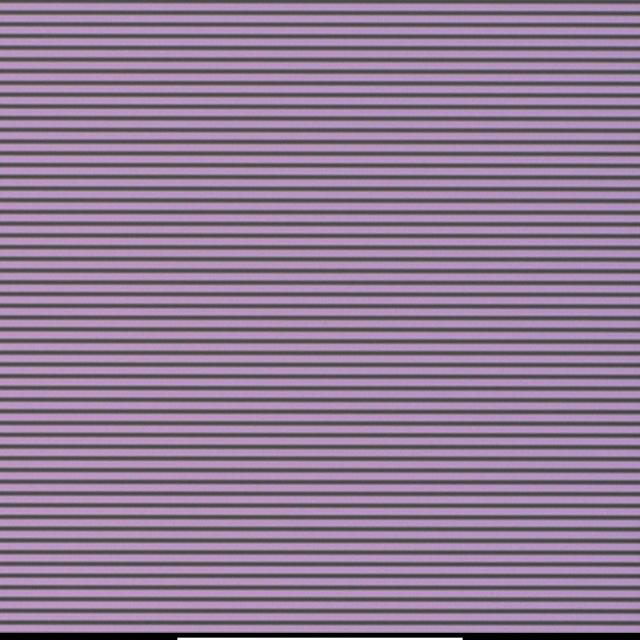nonvisual: (312, 306, 316, 311)
